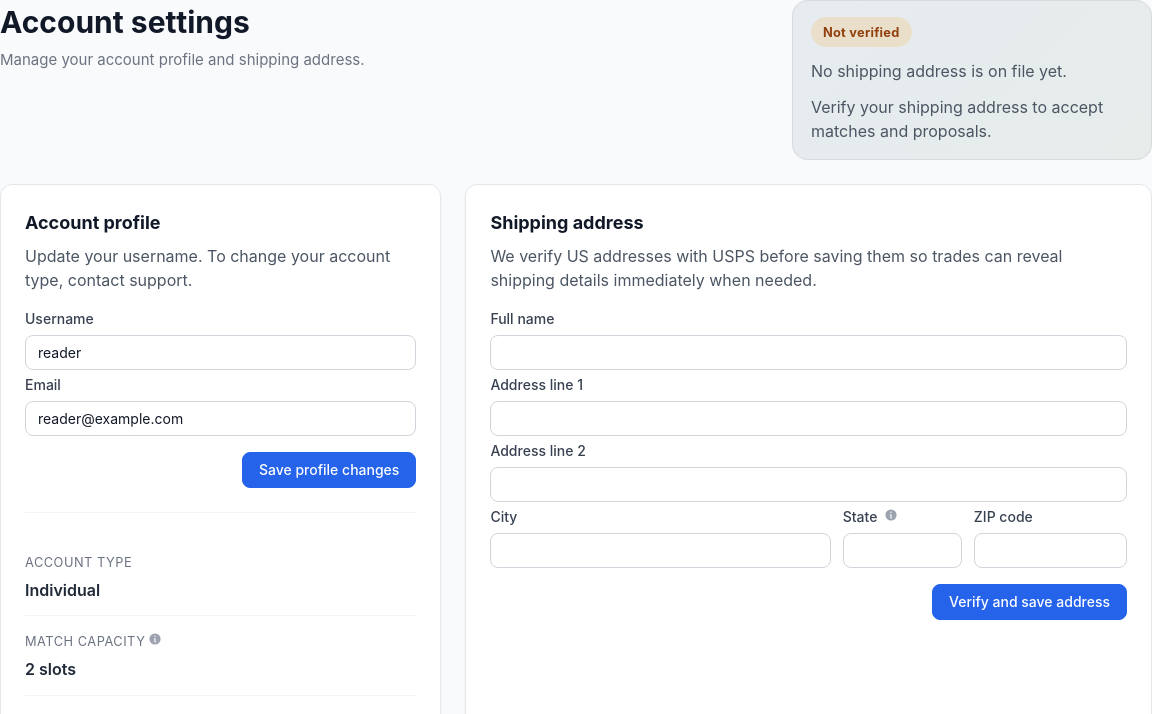
Test case: AccountSettings page › submits the address for verification and refreshes the account data
Type "Jane Reader" into the field labelled "Full name" at (809, 353), box [490,335,1127,370]
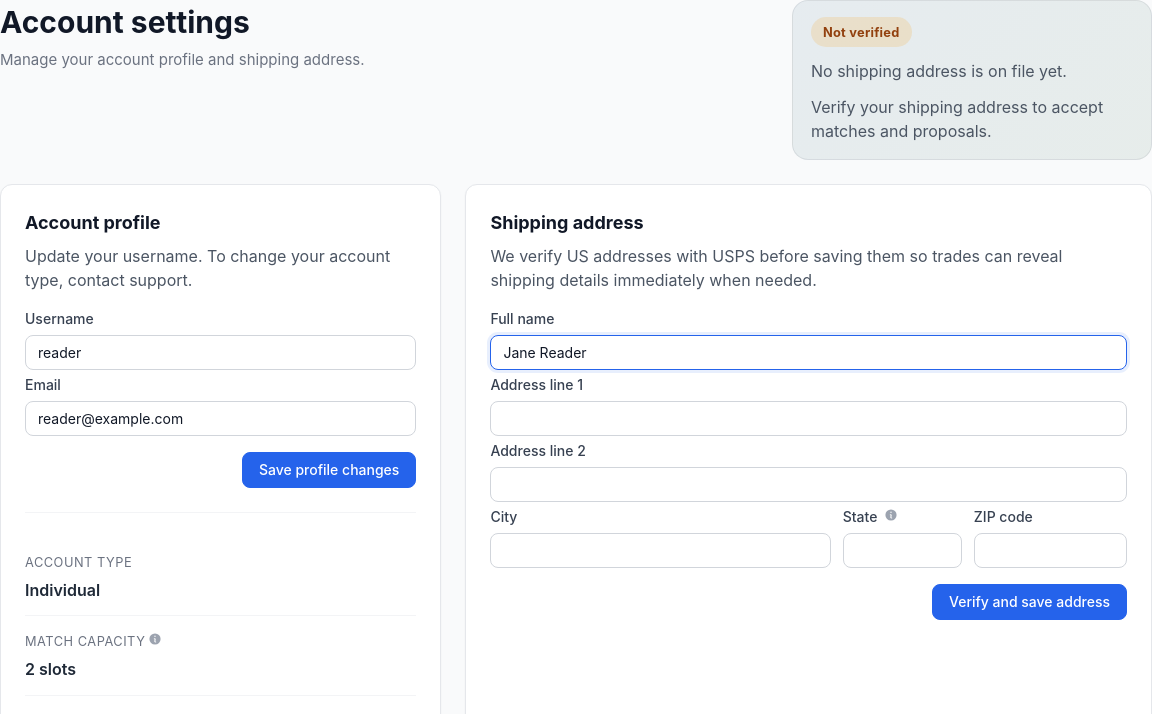
Type "123 Main St" into the field labelled "Address line 1" at (809, 419), box [490,401,1127,436]
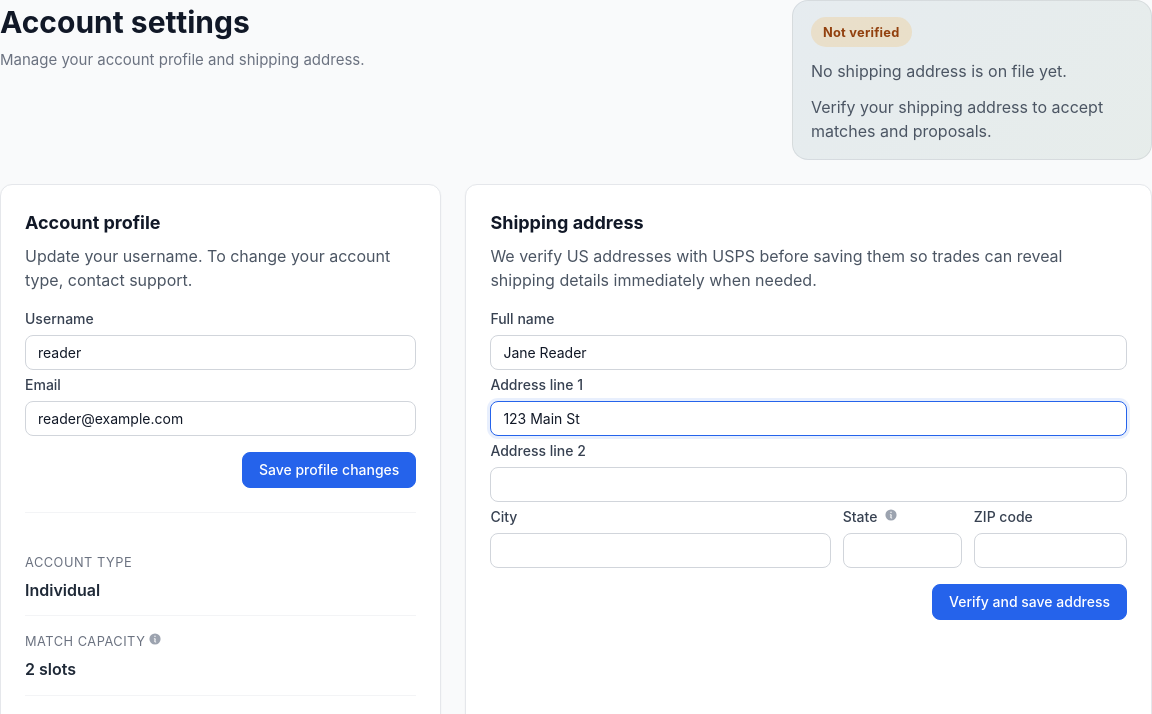
Type "Portland" into the field labelled "City" at (661, 551), box [490,533,831,568]
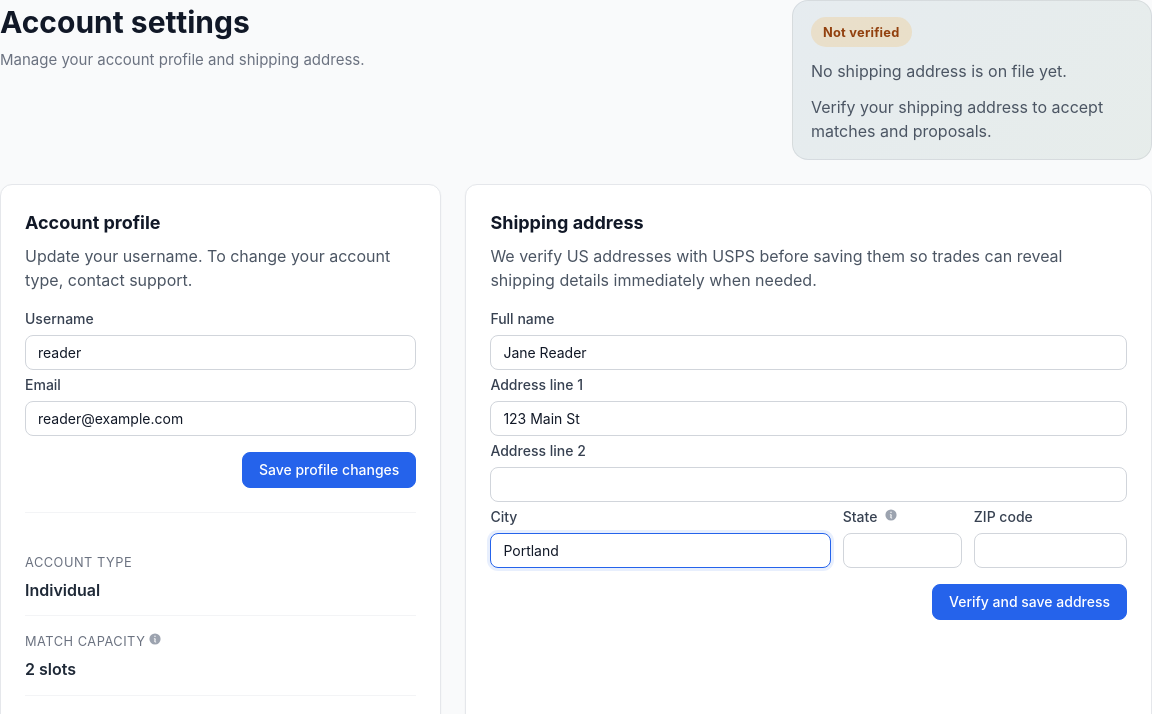
Type "or" into the field labelled "State" at (902, 551), box [843,533,962,568]
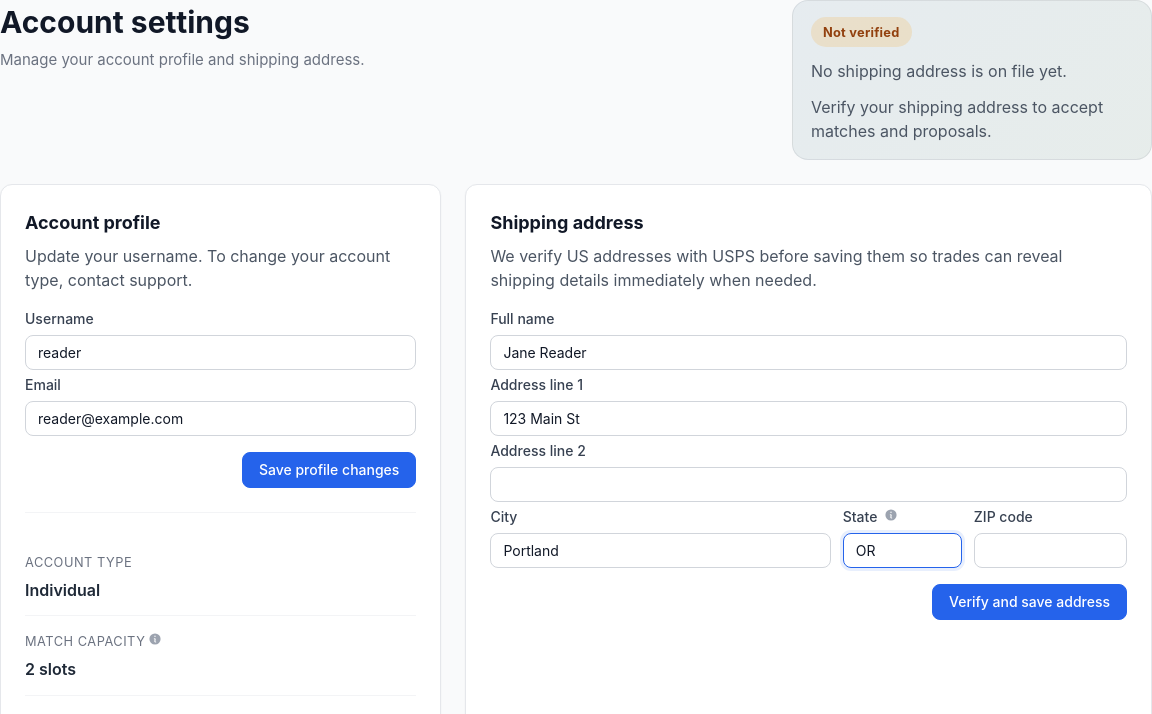
Type "97201" into the field labelled "ZIP code" at (1050, 551), box [974,533,1127,568]
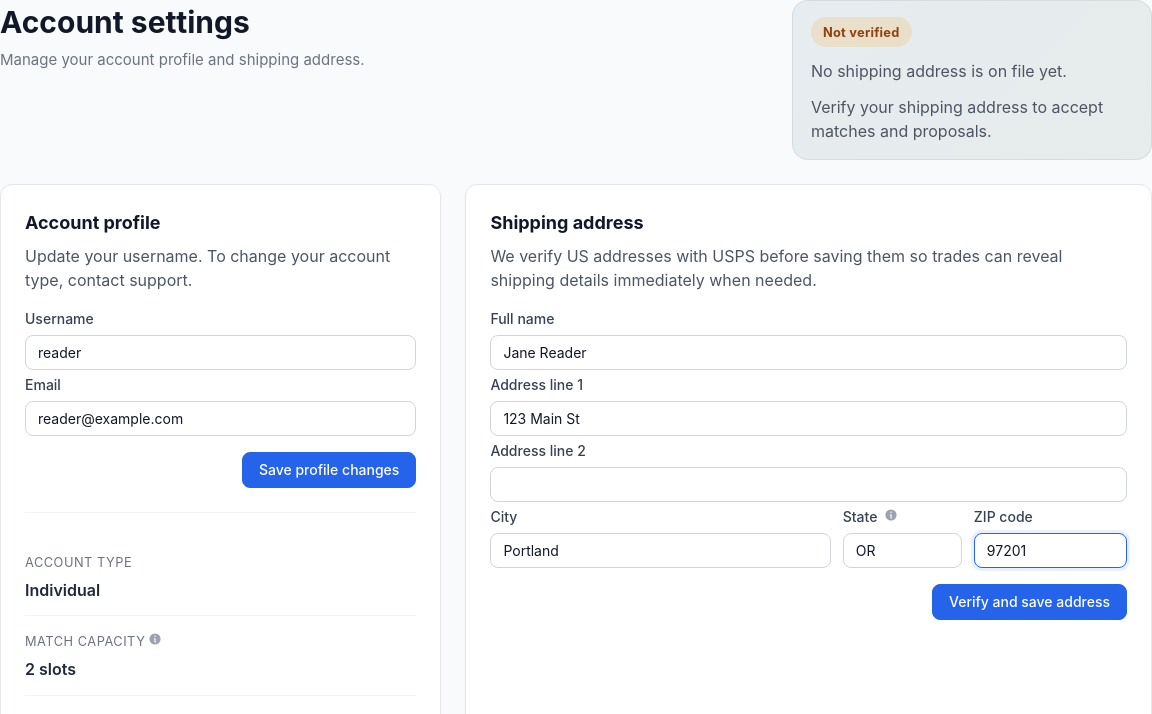
Click the button "Verify and save address" at (1030, 602), box [932,584,1127,620]
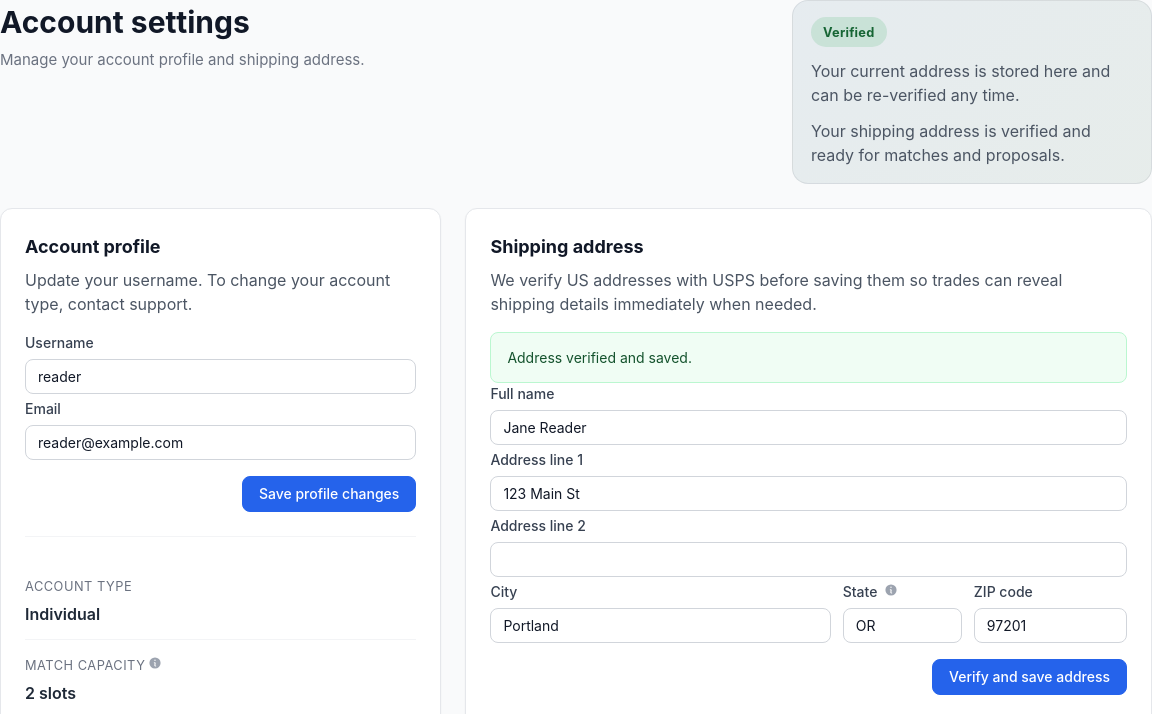
Expected: the text "Address verified and saved." is shown, [490,332,1127,383]
